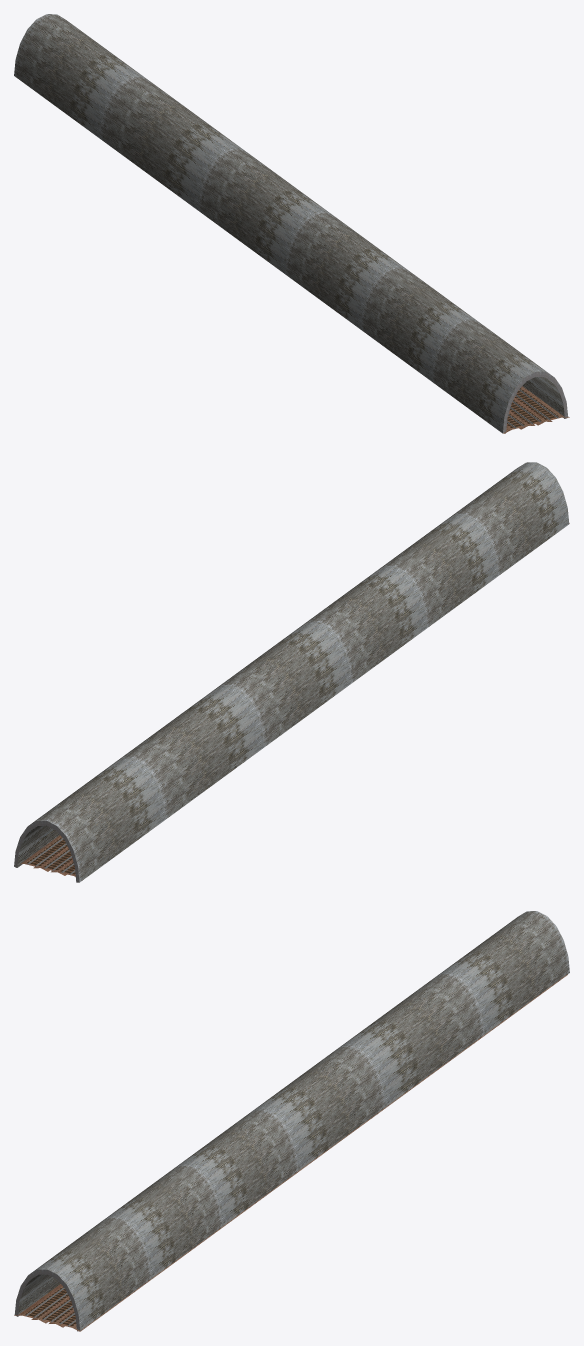
The model's file is hiepp.fbx.
The picture shows the model from 3 angles, top to bottom: view 1: azimuth 30°, elevation 25°; view 2: azimuth 150°, elevation 25°; view 3: azimuth 330°, elevation 25°; orthographic projection.
Parts seen in each view (by area): view 1: Tunnel, Plane.003; view 2: Tunnel, Plane.003; view 3: Tunnel, Plane.003.
Part boxes in pixels (x1,y1,x2,y2): Tunnel: [14, 14, 568, 433]; Plane.003: [503, 386, 569, 433]; Tunnel: [14, 462, 569, 882]; Plane.003: [21, 523, 569, 876]; Tunnel: [14, 911, 569, 1331]; Plane.003: [14, 974, 567, 1331].
Bounding box in the file's own units: 1592 × 1254 × 20381.
